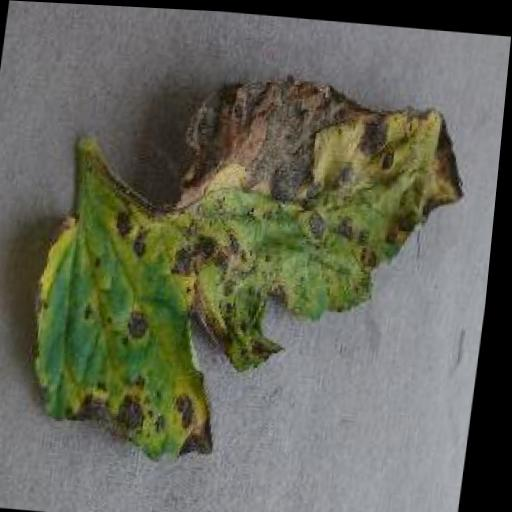Early Blight: (19, 52, 478, 480)
